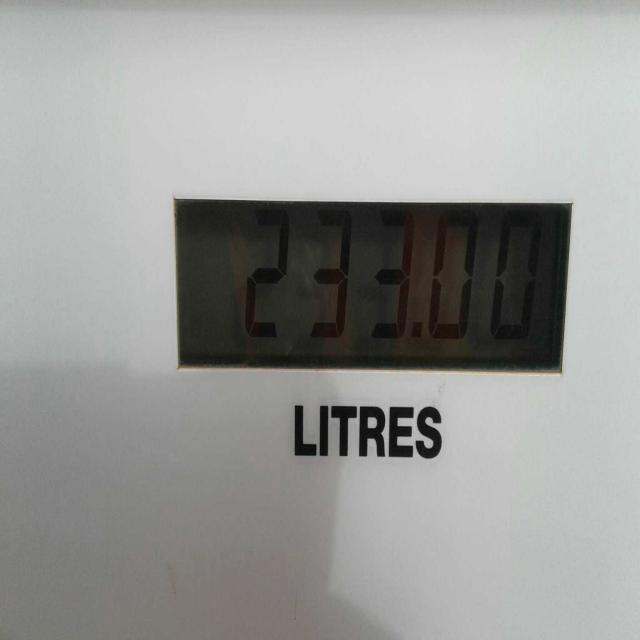.: (404, 312, 426, 352)
0: (485, 209, 543, 354), (423, 202, 479, 351)
2: (240, 196, 299, 347)
3: (302, 203, 359, 349), (366, 202, 416, 352)
